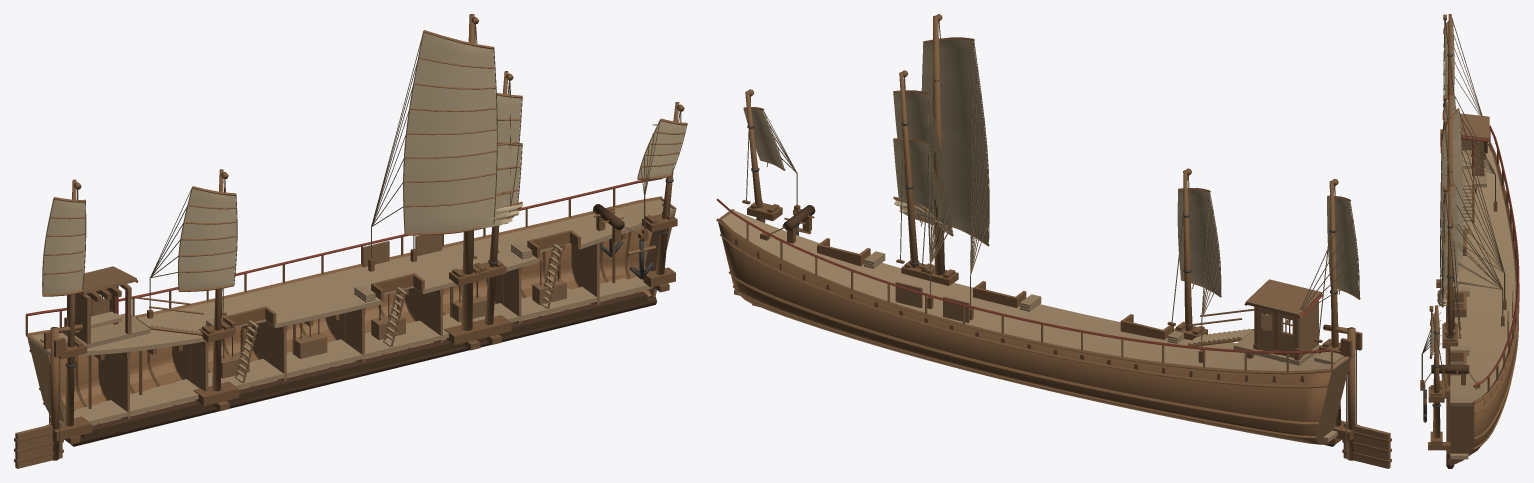
The model's file is zhanchuan-section.glb.
3 renders of one model, left to right at view 1: azimuth 30°, elevation 25°; view 2: azimuth 150°, elevation 25°; view 3: azimuth 270°, elevation 25°, orthographic. The views are drawn at different scales.
Parts seen in each view (by area): view 1: Battened sail panels.009_WEB, Port planked shell.001_WEB, Keelson.001_WEB, Battened sail panels.008_WEB, Battened sail panels.007_WEB, Keel.001_WEB, Battened sail panels.010_WEB, Battened sail panels.013_WEB, Structural bulkhead.007_WEB, Structural bulkhead.009_WEB, Structural bulkhead.008_WEB, Structural bulkhead.011_WEB (+21 smaller); view 2: Port planked shell.001_WEB, Battened sail panels.009_WEB, Battened sail panels.008_WEB, Battened sail panels.010_WEB, Battened sail panels.011_WEB, Battened sail panels.007_WEB, Cambered upper shelter roof.001_WEB, Tapered mast.007_WEB, Stern transom.001_WEB, Tapered mast.008_WEB, Rudder blade.001_WEB, Tapered mast.005_WEB (+9 smaller); view 3: Port planked shell.001_WEB, Battened sail panels.009_WEB, Bow closure.001_WEB, Tapered mast.008_WEB, Tapered mast.009_WEB, Cambered upper shelter roof.001_WEB, Tapered mast.007_WEB, Battened sail panels.011_WEB, Main deck plank.063_WEB, Main deck plank.064_WEB, Battened sail panels.010_WEB, Main deck plank.072_WEB (+53 smaller).
Part boxes in pixels (x1,y1,x2,y2): Battened sail panels.009_WEB: (403, 31, 496, 233); Port planked shell.001_WEB: (31, 198, 660, 425); Keelson.001_WEB: (81, 291, 647, 439); Battened sail panels.008_WEB: (178, 187, 236, 289); Battened sail panels.007_WEB: (42, 198, 85, 293); Keel.001_WEB: (71, 296, 656, 446); Battened sail panels.010_WEB: (493, 95, 521, 220); Battened sail panels.013_WEB: (637, 119, 685, 177); Structural bulkhead.007_WEB: (99, 352, 129, 419); Structural bulkhead.009_WEB: (248, 322, 286, 381); Structural bulkhead.008_WEB: (172, 342, 208, 391); Structural bulkhead.011_WEB: (405, 287, 442, 342); Port planked shell.001_WEB: (718, 220, 1331, 444); Battened sail panels.009_WEB: (921, 39, 988, 245); Battened sail panels.008_WEB: (1177, 190, 1220, 296); Battened sail panels.010_WEB: (893, 92, 951, 235); Battened sail panels.011_WEB: (893, 140, 946, 231); Battened sail panels.007_WEB: (1327, 198, 1358, 298); Cambered upper shelter roof.001_WEB: (1245, 279, 1321, 317); Tapered mast.007_WEB: (933, 15, 944, 275); Stern transom.001_WEB: (1316, 356, 1350, 444); Tapered mast.008_WEB: (899, 72, 918, 267); Rudder blade.001_WEB: (1343, 422, 1390, 468); Tapered mast.005_WEB: (1329, 180, 1341, 426); Port planked shell.001_WEB: (1470, 144, 1516, 454); Battened sail panels.009_WEB: (1441, 109, 1463, 287); Bow closure.001_WEB: (1450, 401, 1473, 465); Tapered mast.008_WEB: (1446, 185, 1453, 385); Tapered mast.009_WEB: (1433, 305, 1440, 438); Cambered upper shelter roof.001_WEB: (1460, 113, 1489, 139); Tapered mast.007_WEB: (1445, 118, 1454, 376); Battened sail panels.011_WEB: (1437, 226, 1460, 306); Main deck plank.063_WEB: (1462, 259, 1514, 268); Main deck plank.064_WEB: (1458, 268, 1515, 276); Battened sail panels.010_WEB: (1443, 185, 1458, 271); Main deck plank.072_WEB: (1454, 316, 1512, 324).
Size of the model in its own units: 31.7 by 15.66 by 4.97.
Materials: 23 (10 with a texture image).
